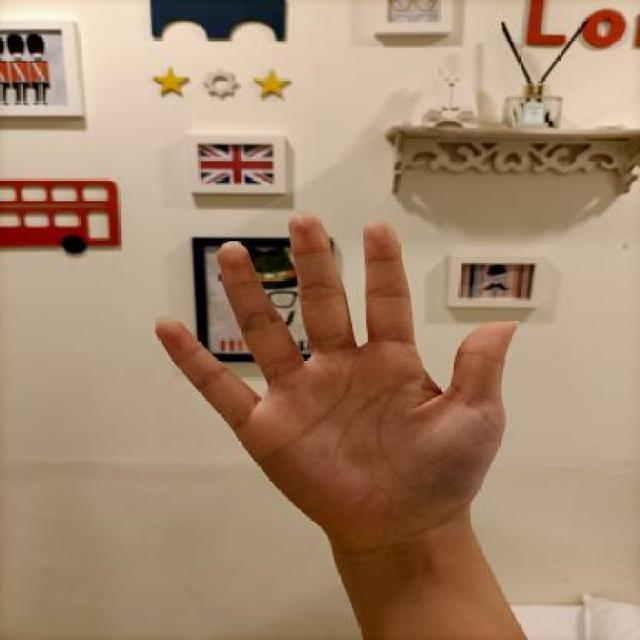bare_hand: (138, 202, 534, 544)
